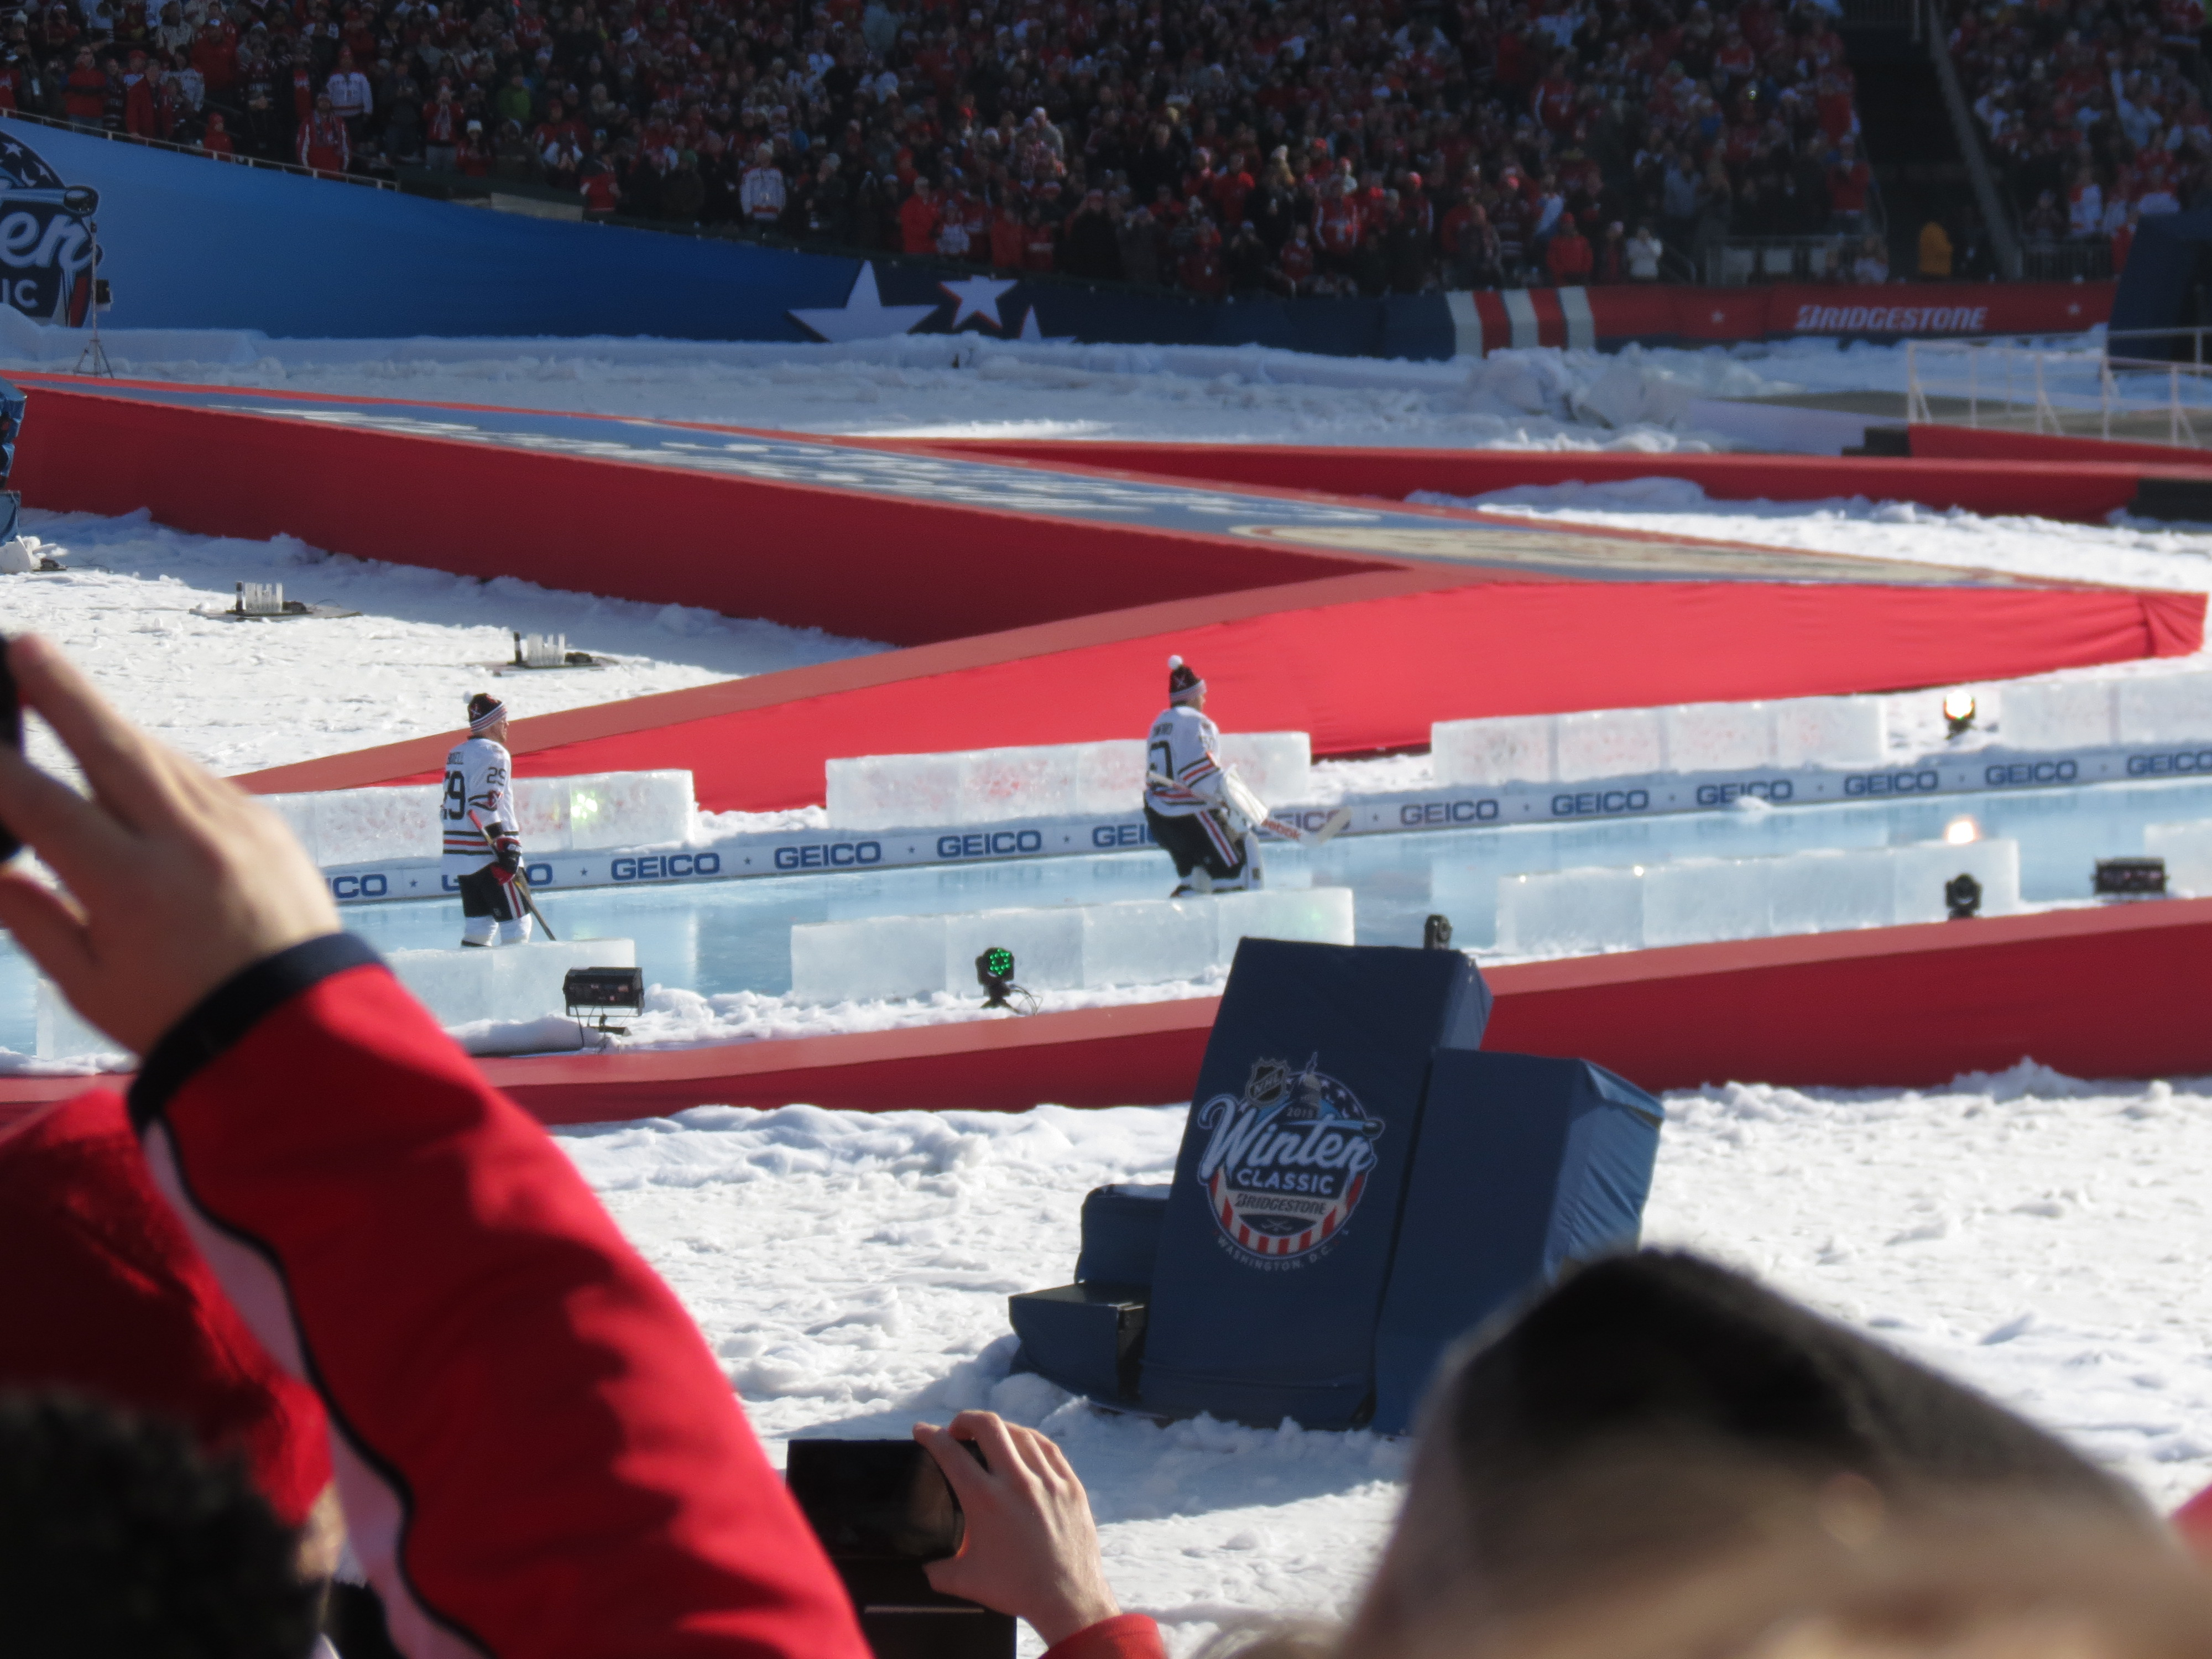Geico: (307, 673, 2212, 901)
